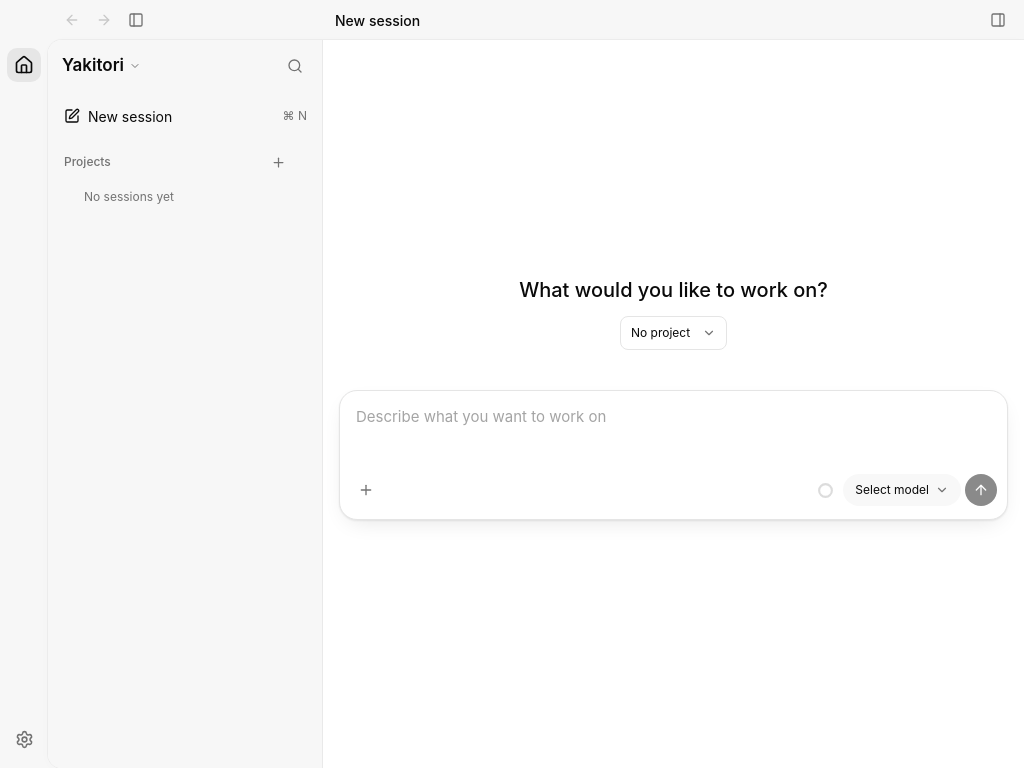
Test case: sidebar › opens local usage analytics separately from subscription limits
Step 1. Click the button named "Settings" → (24, 739), box [7,722,41,756]
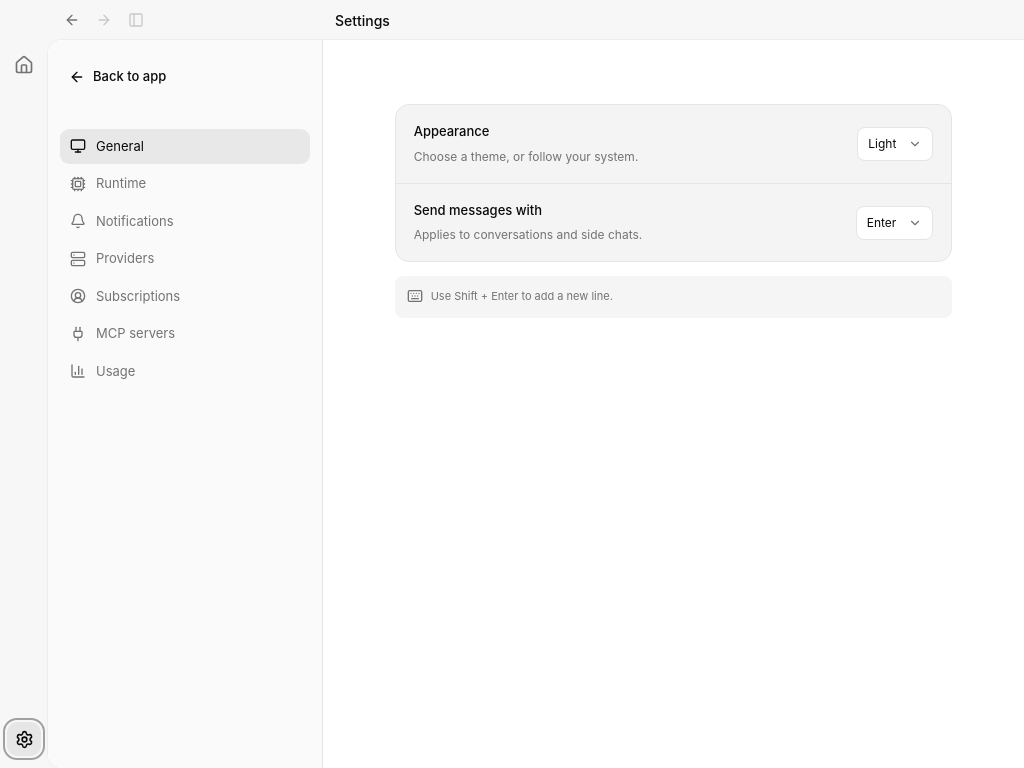
Step 2. Click the button "Usage" → (185, 371), box [60,354,310,389]
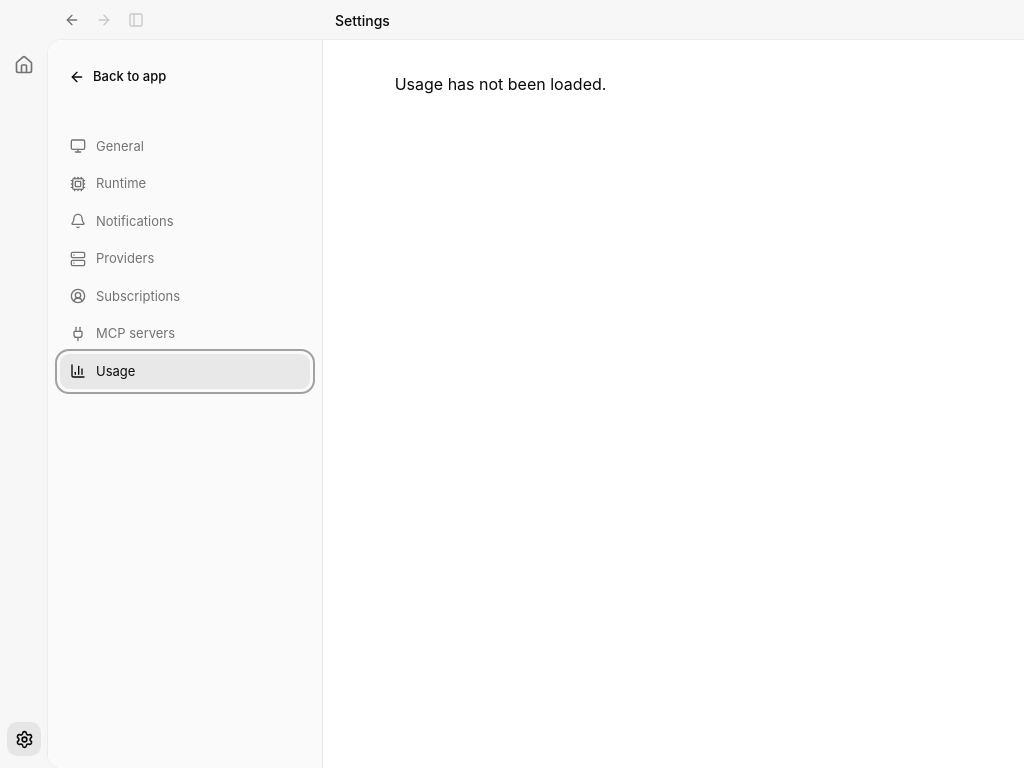
Expected: the element named "Usage dashboard" is shown, [395,74,606,94]
